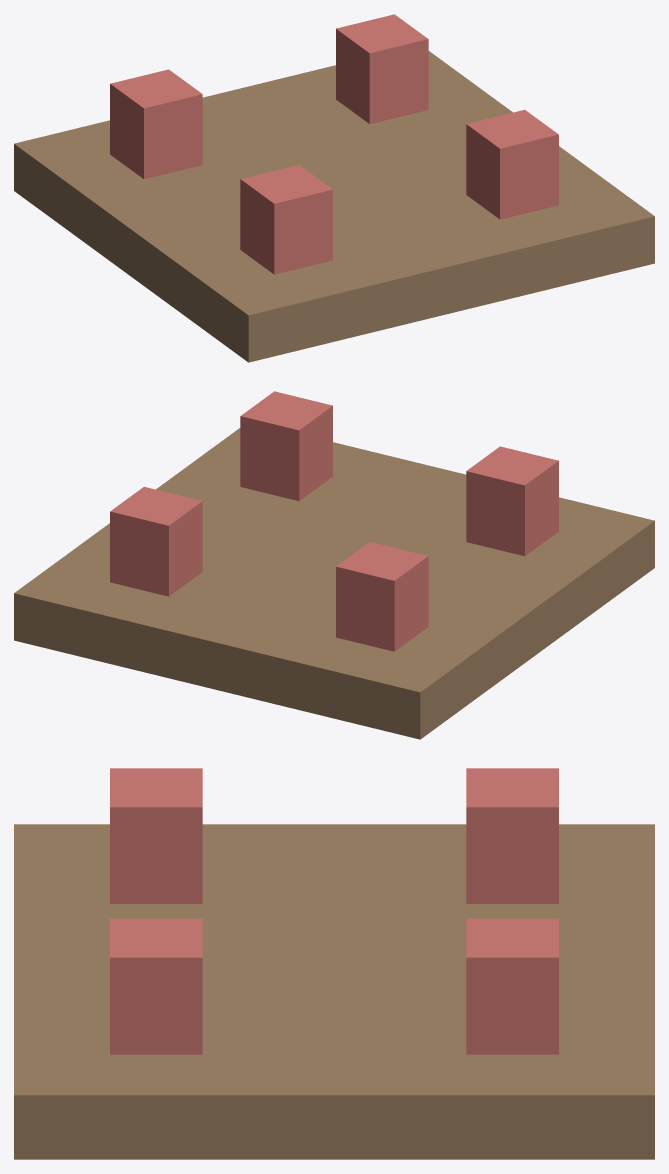
File: Prop_DS_Crop_Bitroot_S1_V1.glb
The picture shows the model from 3 angles, top to bottom: view 1: azimuth 30°, elevation 25°; view 2: azimuth 150°, elevation 25°; view 3: azimuth 270°, elevation 25°; orthographic projection. The views are drawn at different scales.
Parts seen in each view (by area): view 1: Prop_DS_Crop_Bitroot_S1_V1; view 2: Prop_DS_Crop_Bitroot_S1_V1; view 3: Prop_DS_Crop_Bitroot_S1_V1.
Boxes of the visible parts, box(x1,y1,x2,y2) form: Prop_DS_Crop_Bitroot_S1_V1: box(14, 14, 654, 362); Prop_DS_Crop_Bitroot_S1_V1: box(14, 391, 654, 739); Prop_DS_Crop_Bitroot_S1_V1: box(14, 768, 654, 1159).
Bounding box in the file's own units: 0.9 × 0.25 × 0.9.
